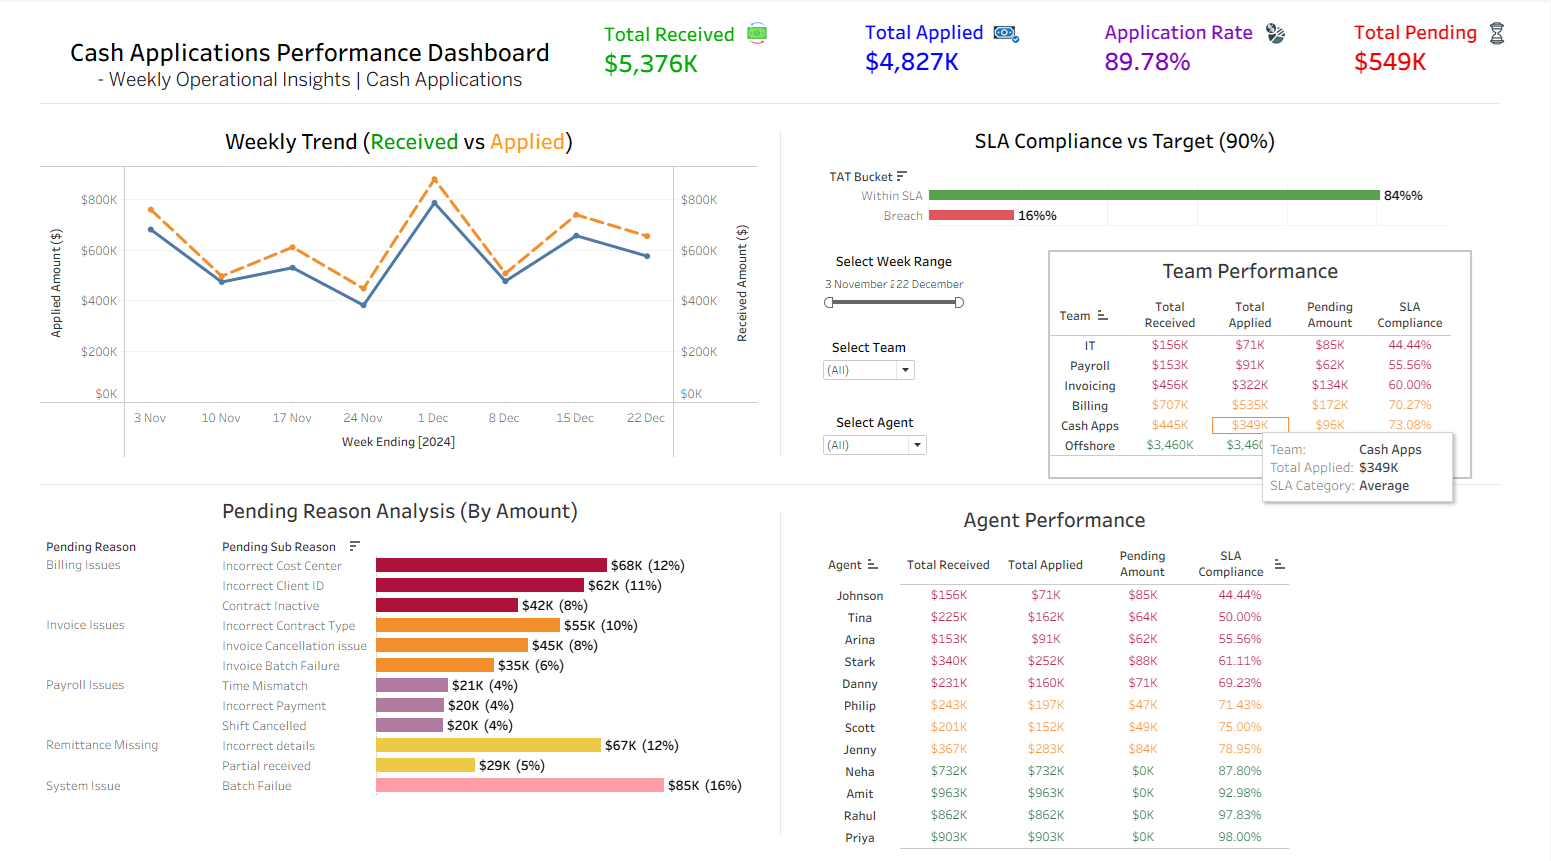

Layout of this report page (visuals, bound fields, positions):
{"tool":"tableau","page":{"name":"Dashboard 1","canvas":[1000,1000],"units":"permille","ordinal":0},"visuals":[{"type":"image","param":"Image/Image- Total Applied.jpeg","box":[638.1,15.1,19.4,46.5]},{"type":"image","param":"Image/Image-Total Received.jpeg","box":[478.7,16.3,19.4,34.9]},{"type":"text","box":[25.8,18.6,348.4,104.7]},{"type":"worksheet","title":"Total Received","mark":"Text","box":[387.1,18.6,135.5,104.7]},{"type":"worksheet","title":"Total Applied","mark":"Automatic","box":[555.5,18.6,135.5,104.7]},{"type":"worksheet","title":"Application Rate","mark":"Automatic","box":[709.7,18.6,135.5,104.7]},{"type":"image","param":"Image/Image- Application rate.jpeg","box":[812.9,18.6,19.4,34.9]},{"type":"image","param":"Image/Image-Total Pending.jpeg","box":[958.1,20.9,19.4,29.1]},{"type":"blank","box":[25.8,117.4,941.9,1.2]},{"type":"worksheet","title":"Weekly Trend","mark":"Line","rows":["Calculation_1283464877477888","Calculation_1283464880144386"],"cols":["Week_Ending (Dim_Date.csv)"],"box":[25.8,139.5,463.2,390.7]},{"type":"worksheet","title":"SLA Compliance ","mark":"Automatic","rows":["TAT_Bucket"],"cols":["Payment_ID"],"box":[516.1,139.5,460,144.2]},{"type":"blank","box":[503.2,150,0.7,377.9]},{"type":"filter","title":"Weekly Trend","param":"[federated.0hyamtn0j61uck1a8xni10q1xgcz].[twk:Week_Ending (Dim_Date.csv):qk]","box":[529,290.7,95.5,97.7]},{"type":"worksheet","title":"Team Performance","mark":"Text","rows":["Team"],"box":[677.4,290.7,271,261.6]},{"type":"filter","title":"Weekly Trend","param":"[federated.0hyamtn0j61uck1a8xni10q1xgcz].[none:Team:nk]","box":[529,390.7,63.2,64]},{"type":"filter","title":"Team Performance","param":"[federated.0hyamtn0j61uck1a8xni10q1xgcz].[none:Agent:nk]","box":[529,477.9,71,80.2]},{"type":"blank","box":[25.8,560.5,941.9,1.2]},{"type":"worksheet","title":"Pending Analysis","mark":"Bar","rows":["Pending_Reason","Pending_Sub Reason"],"cols":["Amount"],"box":[25.8,569.8,464.5,407]},{"type":"worksheet","title":"Agent Performance","mark":"Text","rows":["Agent"],"box":[529,580.2,327.1,407]},{"type":"blank","box":[503.2,591.9,0.7,377.9]}]}

Visuals, with their boxes on the dashboard's canvas, which has no fixed pixel size, in thousandths of its width and height (x1, y1, x2, y2). These are canvas units, not pixel positions in the 1551x861 screenshot, which may show the page scaled, cropped or inside an application window:
image: left=638, top=15, right=658, bottom=62
image: left=479, top=16, right=498, bottom=51
text: left=26, top=19, right=374, bottom=123
"Total Received" worksheet (Text marks): left=387, top=19, right=523, bottom=123
"Total Applied" worksheet: left=556, top=19, right=691, bottom=123
"Application Rate" worksheet: left=710, top=19, right=845, bottom=123
image: left=813, top=19, right=832, bottom=54
image: left=958, top=21, right=978, bottom=50
blank: left=26, top=117, right=968, bottom=119
"Weekly Trend" worksheet (Line marks): left=26, top=140, right=489, bottom=530
"SLA Compliance " worksheet: left=516, top=140, right=976, bottom=284
blank: left=503, top=150, right=504, bottom=528
"Weekly Trend" filter: left=529, top=291, right=624, bottom=388
"Team Performance" worksheet (Text marks): left=677, top=291, right=948, bottom=552
"Weekly Trend" filter: left=529, top=391, right=592, bottom=455
"Team Performance" filter: left=529, top=478, right=600, bottom=558
blank: left=26, top=560, right=968, bottom=562
"Pending Analysis" worksheet (Bar marks): left=26, top=570, right=490, bottom=977
"Agent Performance" worksheet (Text marks): left=529, top=580, right=856, bottom=987
blank: left=503, top=592, right=504, bottom=970
